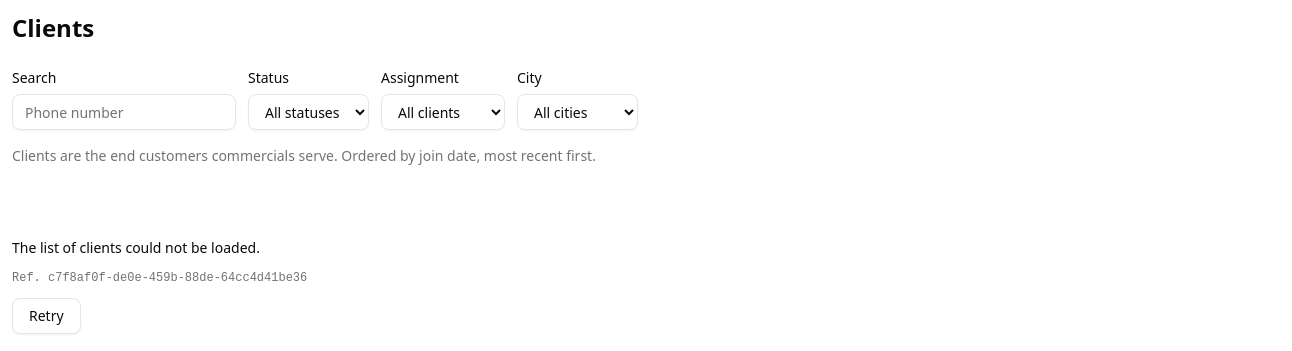
Test: error handling › recovers on manual retry
The image size is (1292, 351).
Expected: the message is shown, [12,238,307,334]
Click the button "Retry" at (46, 316), box [12,298,81,334]
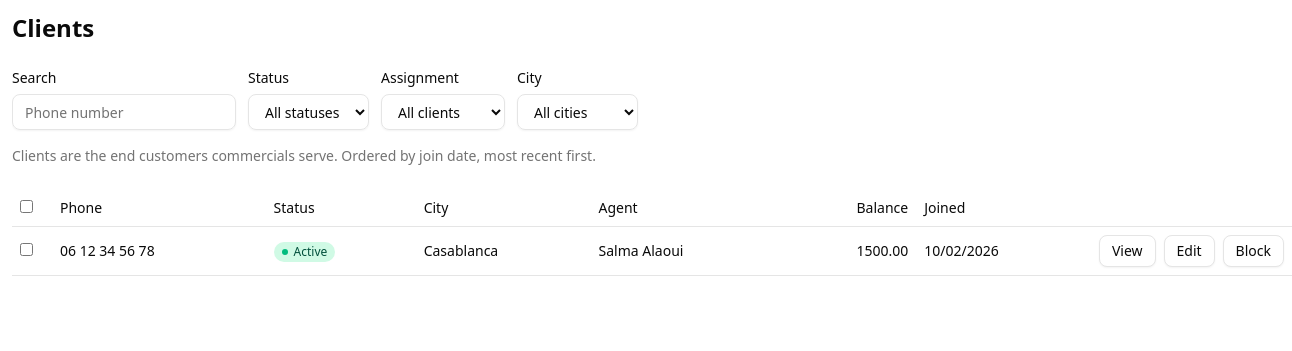
Result: the text "06 12 34 56 78" is shown at [52,226,266,276]
